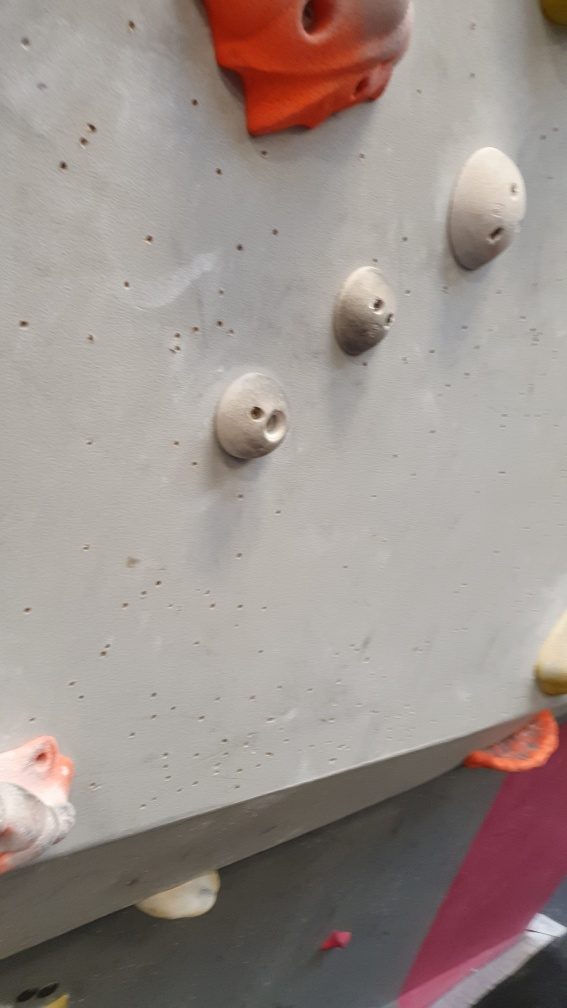Jug: (462, 706, 564, 778)
Sloper: (442, 143, 528, 276), (203, 368, 295, 464), (329, 262, 400, 359)
